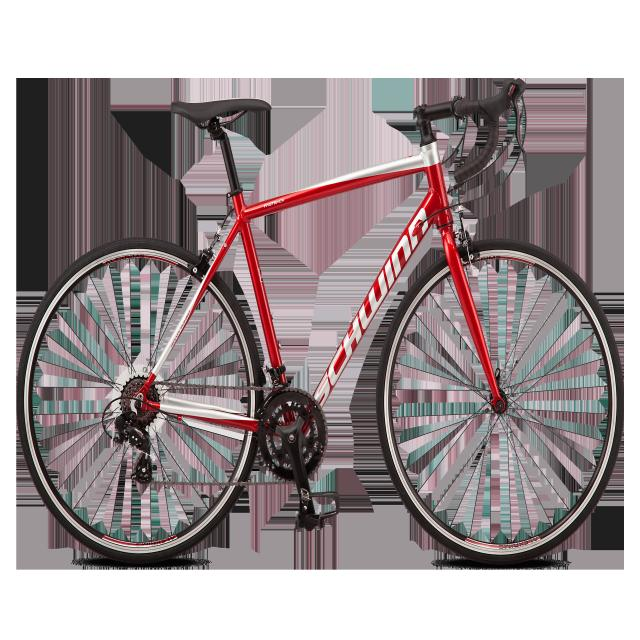road-bike: (16, 75, 626, 569)
